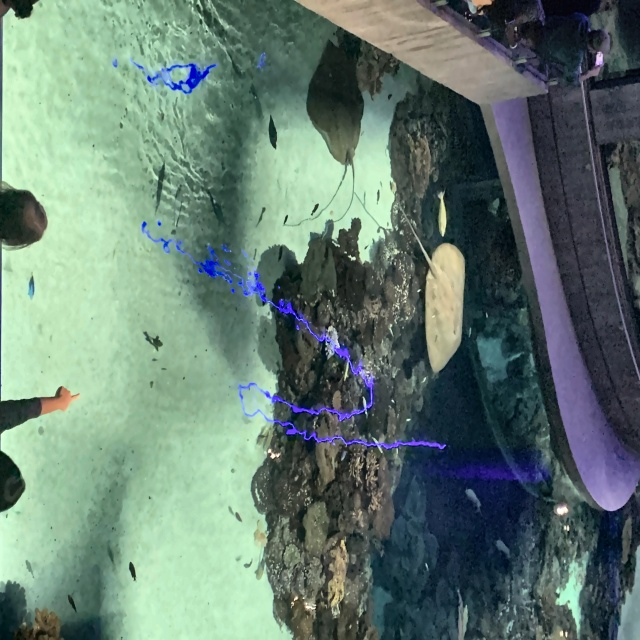fish: (0, 181, 49, 254), (170, 183, 184, 237), (435, 189, 448, 240), (464, 486, 483, 519), (266, 110, 279, 152), (493, 537, 512, 562), (142, 330, 163, 352), (254, 554, 266, 579), (26, 269, 35, 301), (23, 558, 35, 580), (67, 593, 78, 615), (128, 561, 137, 583), (105, 545, 114, 566), (276, 244, 283, 265), (310, 202, 319, 217), (243, 557, 253, 569), (235, 512, 242, 524), (282, 214, 289, 226), (376, 189, 380, 205), (364, 244, 370, 250)
stingray: (306, 37, 364, 167), (424, 241, 466, 375)
